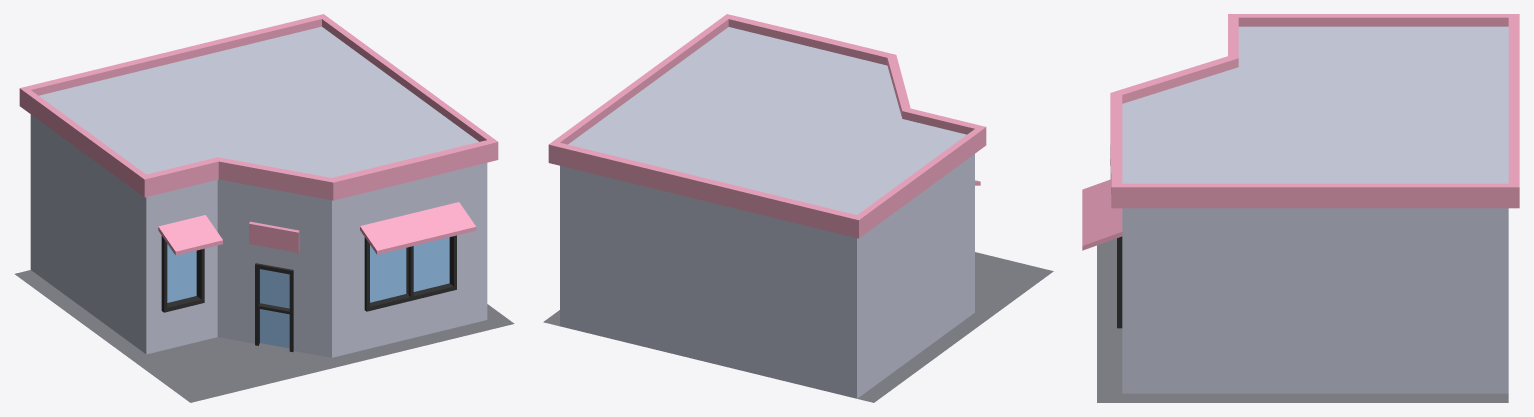
Rendered from Building1.fbx.
3 views of the same model, side by side, from view 1: azimuth 30°, elevation 25°; view 2: azimuth 150°, elevation 25°; view 3: azimuth 270°, elevation 25° (orthographic). The views are drawn at different scales.
Parts seen in each view (by area): view 1: Building1; view 2: Building1; view 3: Building1.
Part boxes in pixels (x1,y1,x2,y2): Building1: (15, 14, 514, 402); Building1: (543, 14, 1053, 402); Building1: (1082, 14, 1519, 402).
Size of the model in its own units: 800 by 424 by 800.
